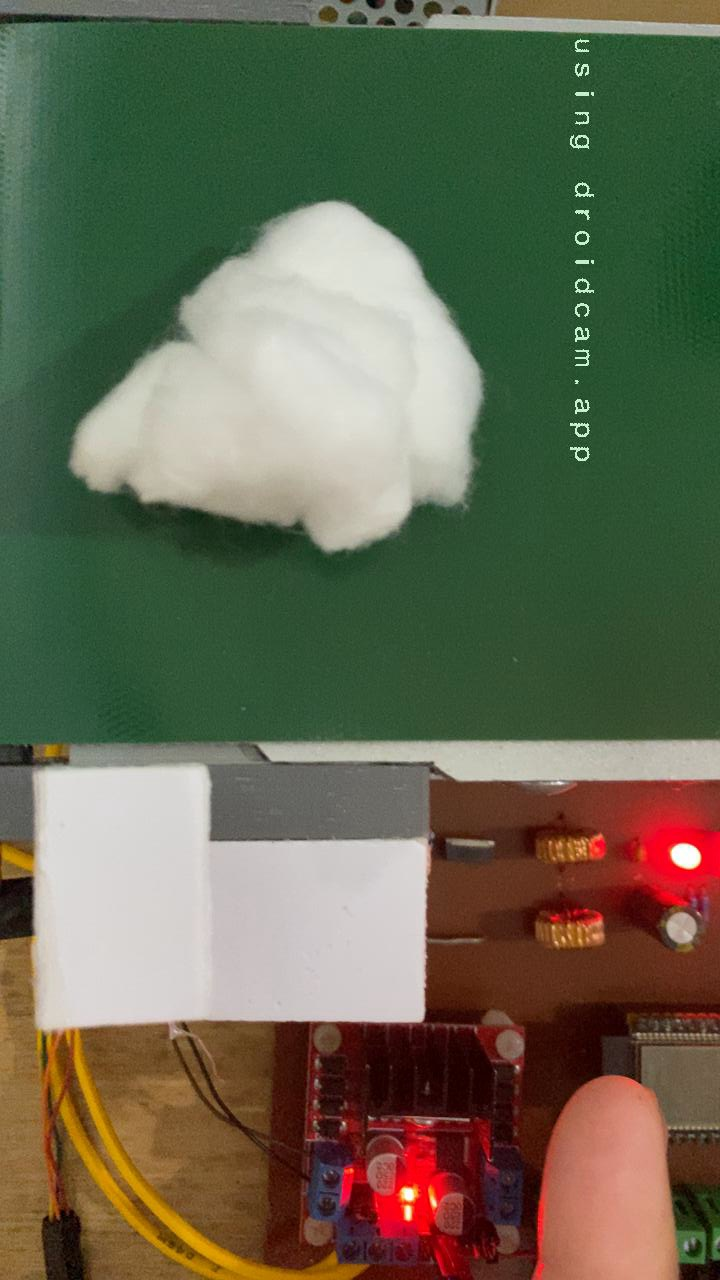cotton: (62, 195, 492, 560)
